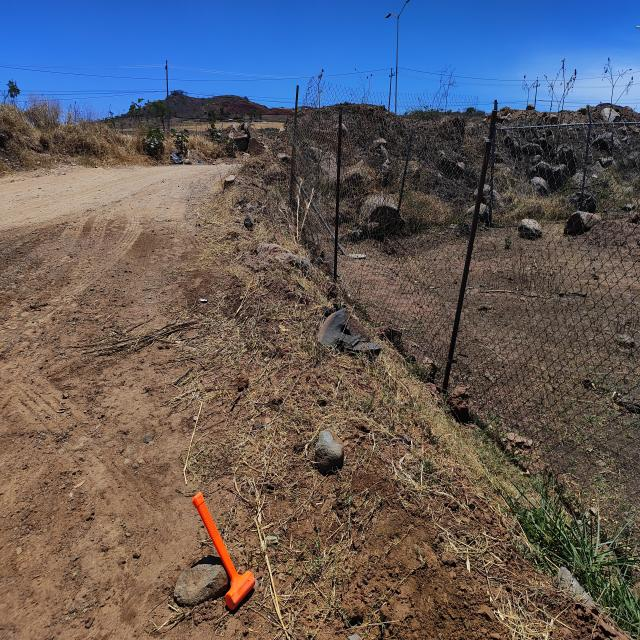Orange_hammer: (191, 490, 256, 611)
